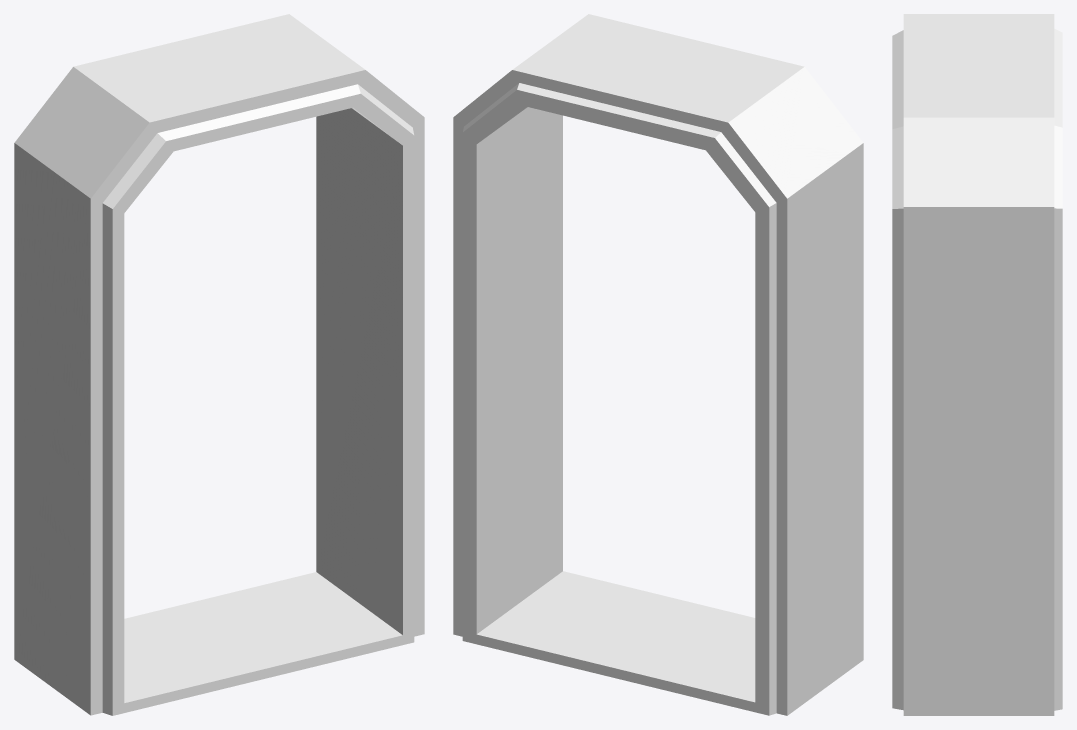
File: door_frame_single_small_b.fbx
The picture shows the model from 3 angles, left to right: view 1: azimuth 30°, elevation 25°; view 2: azimuth 150°, elevation 25°; view 3: azimuth 270°, elevation 25°; orthographic projection.
Visible parts, largest first — view 1: door_frame_single_small_b; view 2: door_frame_single_small_b; view 3: door_frame_single_small_b.
Boxes of the visible parts, x1,y1,x2,y2 form: door_frame_single_small_b: (14, 14, 424, 715); door_frame_single_small_b: (453, 14, 863, 715); door_frame_single_small_b: (892, 14, 1062, 715).
Bounding box in the file's own units: 1.16 × 1.91 × 0.5188.
